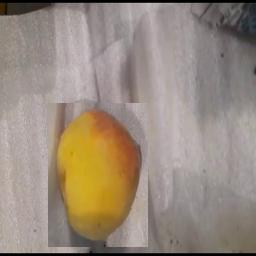Peach Fresh: (48, 103, 148, 247)
